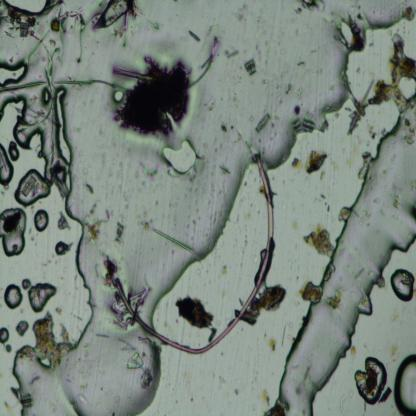Air bubble: (278, 103, 416, 416), (11, 314, 164, 416), (54, 86, 74, 168), (0, 207, 29, 258), (161, 137, 199, 175), (394, 354, 416, 415), (28, 281, 57, 316), (389, 268, 416, 304), (0, 60, 27, 89), (3, 0, 48, 17), (0, 139, 14, 187), (3, 284, 24, 310), (397, 74, 416, 102), (32, 208, 48, 233), (340, 20, 354, 48), (53, 238, 70, 259), (8, 139, 20, 160), (40, 86, 52, 106), (112, 89, 126, 102), (21, 277, 32, 291), (0, 327, 9, 343)
Background material: (110, 56, 192, 134), (346, 79, 402, 138), (173, 292, 217, 342), (92, 0, 138, 35), (245, 288, 283, 327), (192, 32, 218, 87), (388, 31, 416, 79), (123, 348, 155, 388), (300, 223, 334, 260), (84, 208, 112, 244), (49, 8, 85, 34), (109, 303, 134, 328), (294, 0, 326, 19), (300, 280, 325, 304), (304, 149, 327, 174), (101, 254, 116, 287), (137, 160, 157, 180), (326, 288, 344, 309), (262, 400, 284, 416), (404, 117, 416, 146), (136, 211, 153, 231), (57, 211, 70, 230), (258, 390, 270, 408), (235, 7, 249, 22), (224, 48, 238, 62), (217, 163, 232, 176), (408, 198, 416, 222), (82, 182, 96, 195), (290, 156, 300, 174), (269, 335, 278, 354), (366, 124, 376, 141), (282, 83, 295, 96), (188, 30, 201, 43), (339, 206, 351, 220), (292, 118, 302, 134), (291, 216, 301, 231), (320, 120, 332, 132), (292, 104, 302, 118), (392, 194, 400, 210), (234, 130, 242, 142), (220, 122, 228, 133), (332, 160, 338, 174), (4, 343, 12, 353), (324, 201, 331, 212), (410, 180, 416, 192), (221, 265, 228, 275), (319, 171, 327, 179), (319, 194, 326, 199)
Diatom: (19, 176, 37, 197), (244, 58, 260, 76), (256, 114, 270, 133), (21, 390, 34, 409), (14, 320, 29, 336), (301, 116, 316, 132), (115, 224, 128, 242), (18, 21, 30, 39)
Glass filter fibre: (154, 228, 194, 255), (22, 78, 109, 87), (339, 392, 347, 415)
Microfibre: (116, 155, 275, 354)
